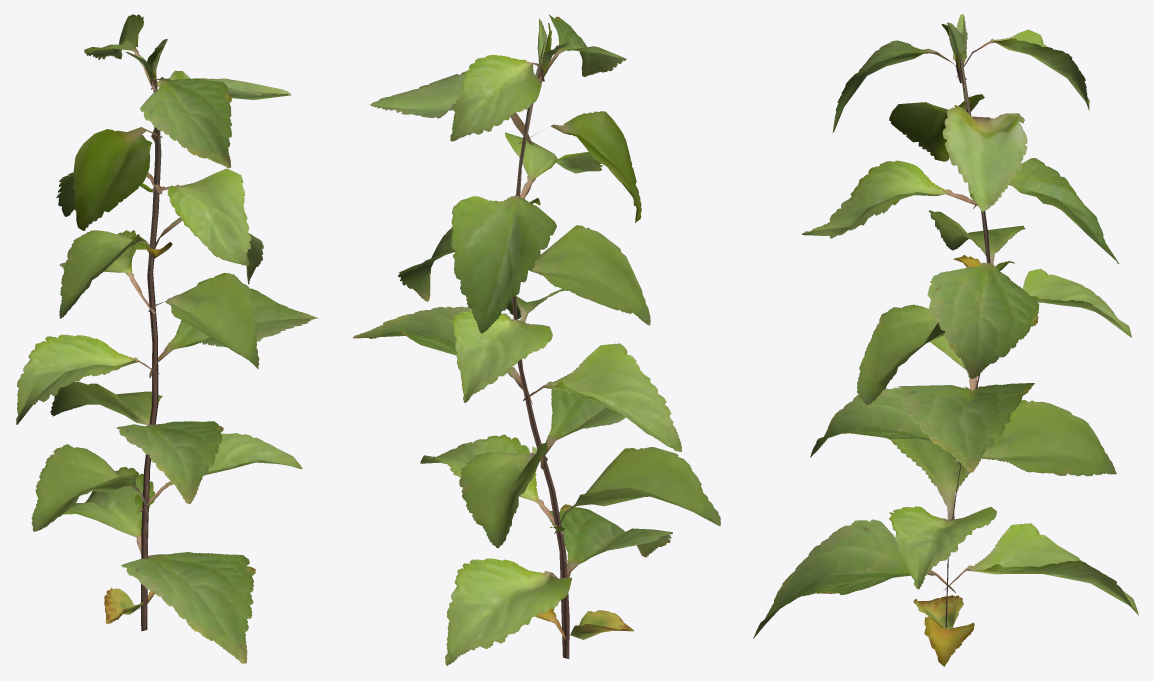
The picture shows the model from 3 angles, left to right: view 1: azimuth 30°, elevation 25°; view 2: azimuth 150°, elevation 25°; view 3: azimuth 270°, elevation 25°; orthographic projection. The views are drawn at different scales.
Parts seen in each view (by area): view 1: shrub_01__e_lod1; view 2: shrub_01__e_lod1; view 3: shrub_01__e_lod1.
Part boxes in pixels (bbox=[...]): shrub_01__e_lod1: bbox=[16, 14, 318, 663]; shrub_01__e_lod1: bbox=[353, 14, 720, 665]; shrub_01__e_lod1: bbox=[753, 14, 1138, 666].
Bounding box in the file's own units: 0.1875 × 0.3333 × 0.1803.
1 material, 1 textured.
